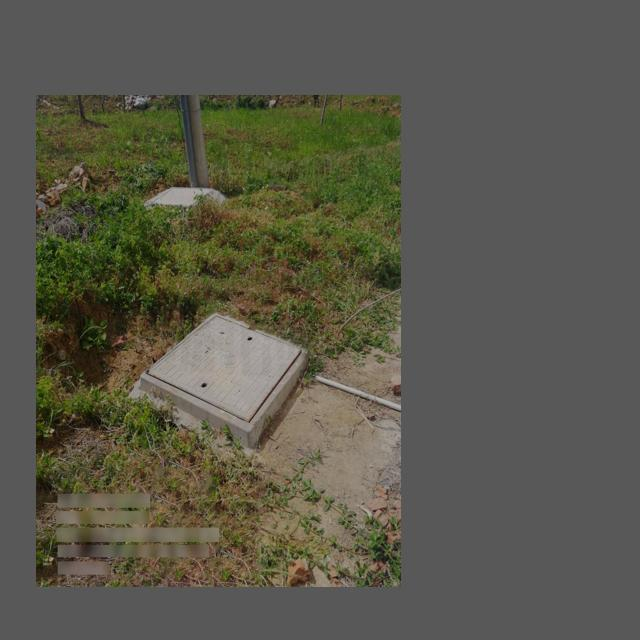good: (139, 311, 309, 440)
